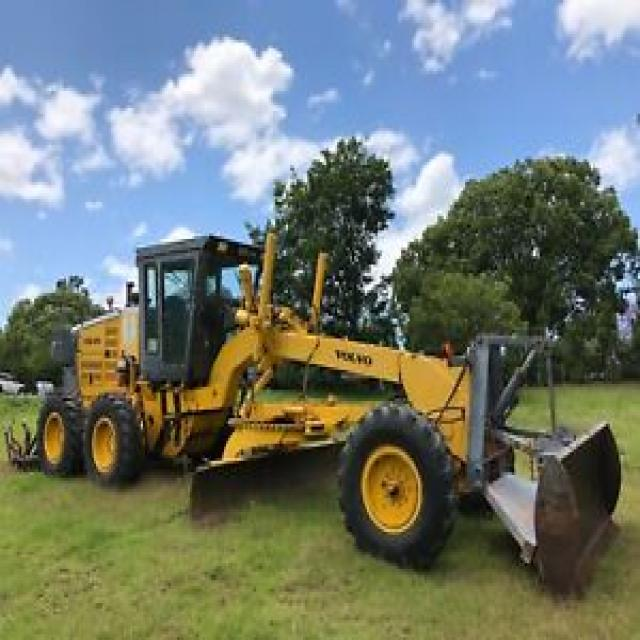light_vehicle: (70, 114, 638, 629)
